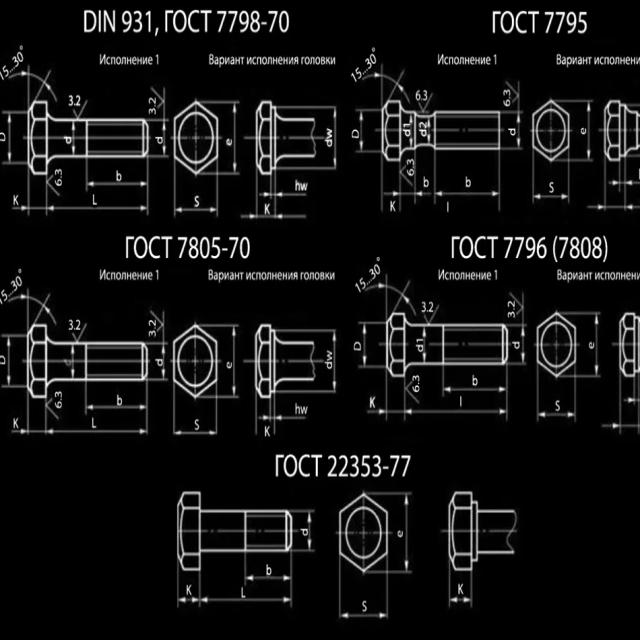marking_line: (48, 204, 146, 215), (201, 594, 290, 605), (406, 407, 507, 415), (48, 428, 148, 435), (403, 495, 411, 572), (230, 329, 238, 395), (444, 386, 505, 394), (331, 331, 339, 391), (232, 105, 239, 171), (85, 403, 146, 410), (88, 180, 148, 187), (437, 190, 497, 197), (4, 338, 13, 384), (593, 315, 600, 374), (539, 411, 575, 421), (332, 109, 338, 166), (176, 429, 214, 438), (586, 104, 592, 159), (7, 115, 14, 162), (361, 325, 369, 366), (177, 207, 217, 215), (248, 574, 290, 581), (534, 193, 570, 201), (278, 191, 309, 200), (342, 613, 387, 619), (276, 212, 308, 220), (359, 112, 365, 152), (277, 415, 307, 423), (179, 596, 197, 609), (306, 512, 312, 549), (10, 203, 29, 214), (162, 121, 168, 155), (520, 328, 526, 362), (601, 418, 619, 429), (516, 115, 521, 146), (161, 348, 166, 379), (626, 178, 640, 189), (450, 598, 471, 605), (622, 397, 640, 405), (258, 188, 271, 198), (10, 428, 26, 436), (625, 202, 640, 210), (239, 213, 256, 220), (384, 190, 398, 198), (258, 414, 274, 421), (588, 204, 604, 211), (366, 409, 384, 415), (418, 190, 432, 197), (609, 178, 619, 186)
numeric: (326, 454, 383, 483), (420, 299, 436, 316), (67, 91, 83, 107), (67, 316, 83, 332), (10, 50, 23, 68), (147, 94, 157, 117), (414, 87, 429, 101), (354, 276, 366, 293), (369, 263, 380, 281), (506, 300, 516, 319), (502, 88, 511, 109), (10, 276, 22, 291), (55, 168, 63, 190), (147, 318, 156, 337), (407, 156, 415, 177), (0, 289, 9, 306), (55, 391, 63, 410), (0, 61, 7, 82)
special_symbol: (19, 71, 58, 104), (366, 73, 410, 102), (44, 175, 60, 199), (152, 91, 164, 109), (70, 329, 86, 342), (406, 379, 415, 402), (509, 83, 518, 105), (417, 100, 429, 114), (514, 298, 522, 319), (71, 108, 85, 119), (47, 395, 54, 414), (400, 165, 406, 182), (157, 316, 162, 334)
